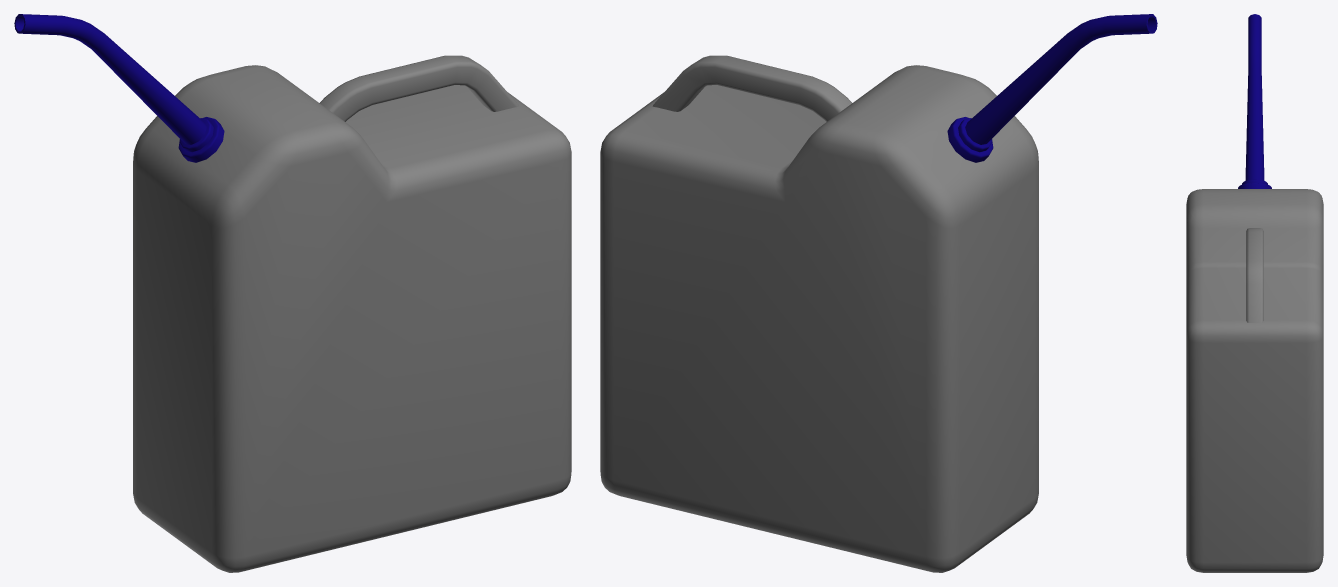
Rendered from SM_Fuel.fbx.
3 views of the same model, side by side, from view 1: azimuth 30°, elevation 25°; view 2: azimuth 150°, elevation 25°; view 3: azimuth 270°, elevation 25° (orthographic). The views are drawn at different scales.
Visible parts, largest first — view 1: SM_Fuel; view 2: SM_Fuel; view 3: SM_Fuel.
Boxes of the visible parts, x1=… form: SM_Fuel: x1=14, y1=14, x2=571, y2=572; SM_Fuel: x1=600, y1=14, x2=1157, y2=572; SM_Fuel: x1=1186, y1=14, x2=1323, y2=572.
Size of the model in its own units: 47.55 by 50.59 by 16.
